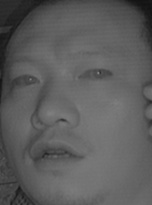eye: (76, 61, 114, 85), (9, 68, 41, 91)
mouth: (26, 137, 88, 177)
